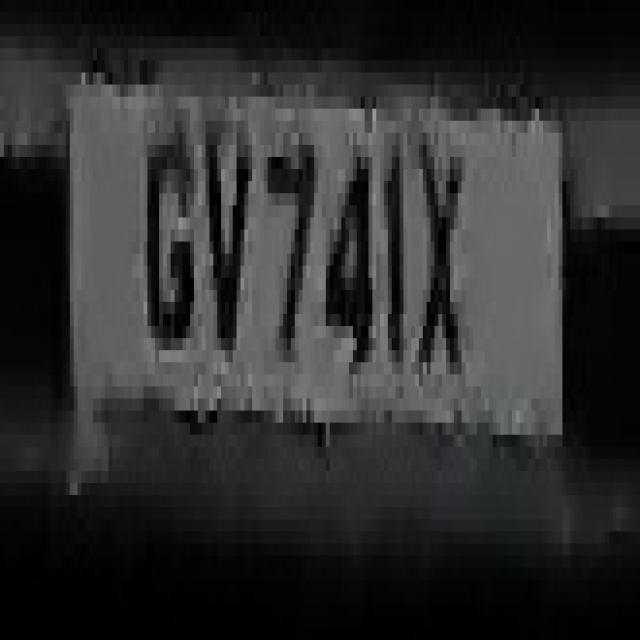1: (376, 133, 415, 386)
4: (314, 109, 376, 386)
7: (260, 109, 318, 362)
G: (136, 109, 194, 374)
V: (194, 97, 256, 374)
X: (415, 108, 473, 410)
